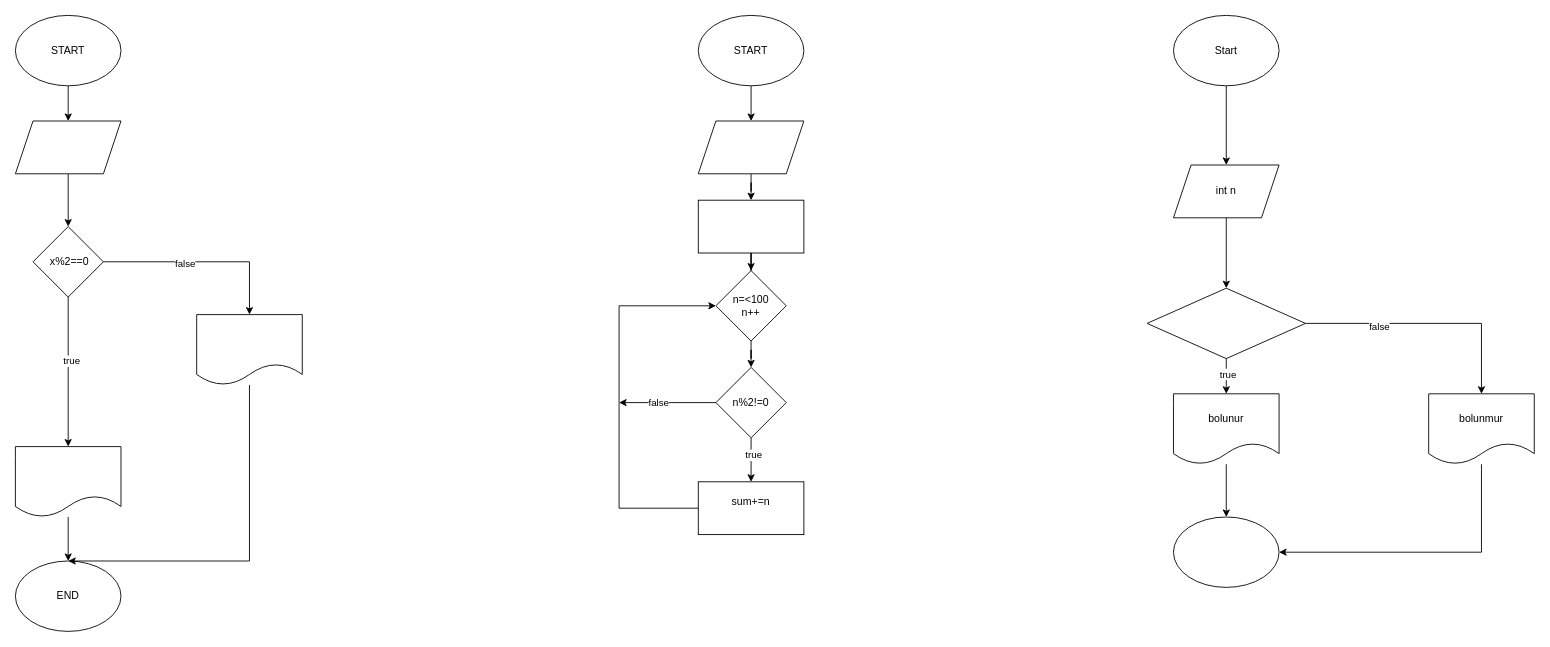
This 1550x647 diagram has some shape labels left out. The centre of each missing label's shape, as x and y in pixels:
"cutdur" goes at (x=68, y=481).
"int n =0" goes at (x=750, y=147).
"int x" goes at (x=68, y=147).
"n%3==0 && n%10==0" goes at (x=1225, y=323).
"sum=0" goes at (x=750, y=226).
"tekdir" goes at (x=249, y=349).
